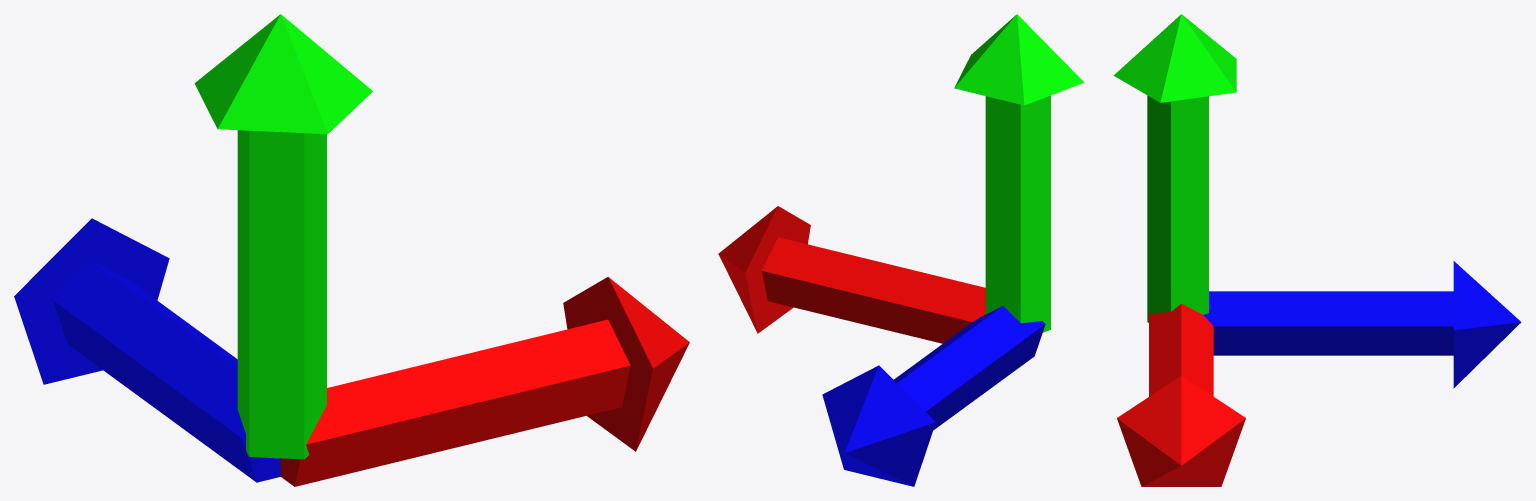
Rendered from axis.glb.
3 renders of one model, left to right at view 1: azimuth 30°, elevation 25°; view 2: azimuth 150°, elevation 25°; view 3: azimuth 270°, elevation 25°, orthographic. The views are drawn at different scales.
Visible parts, largest first — view 1: Y, X, Z; view 2: Y, X, Z; view 3: Z, Y, X.
Boxes of the visible parts, left/top/right/bottom form: Y: left=194, top=14, right=372, bottom=459; X: left=280, top=277, right=689, bottom=486; Z: left=14, top=218, right=280, bottom=482; Y: left=954, top=14, right=1084, bottom=332; X: left=718, top=206, right=985, bottom=343; Z: left=822, top=306, right=1045, bottom=486; Z: left=1203, top=261, right=1521, bottom=388; Y: left=1113, top=14, right=1236, bottom=322; X: left=1117, top=303, right=1245, bottom=486.
Bounding box in the file's own units: 1.19 × 1.16 × 1.2.
1 material, 1 textured.
